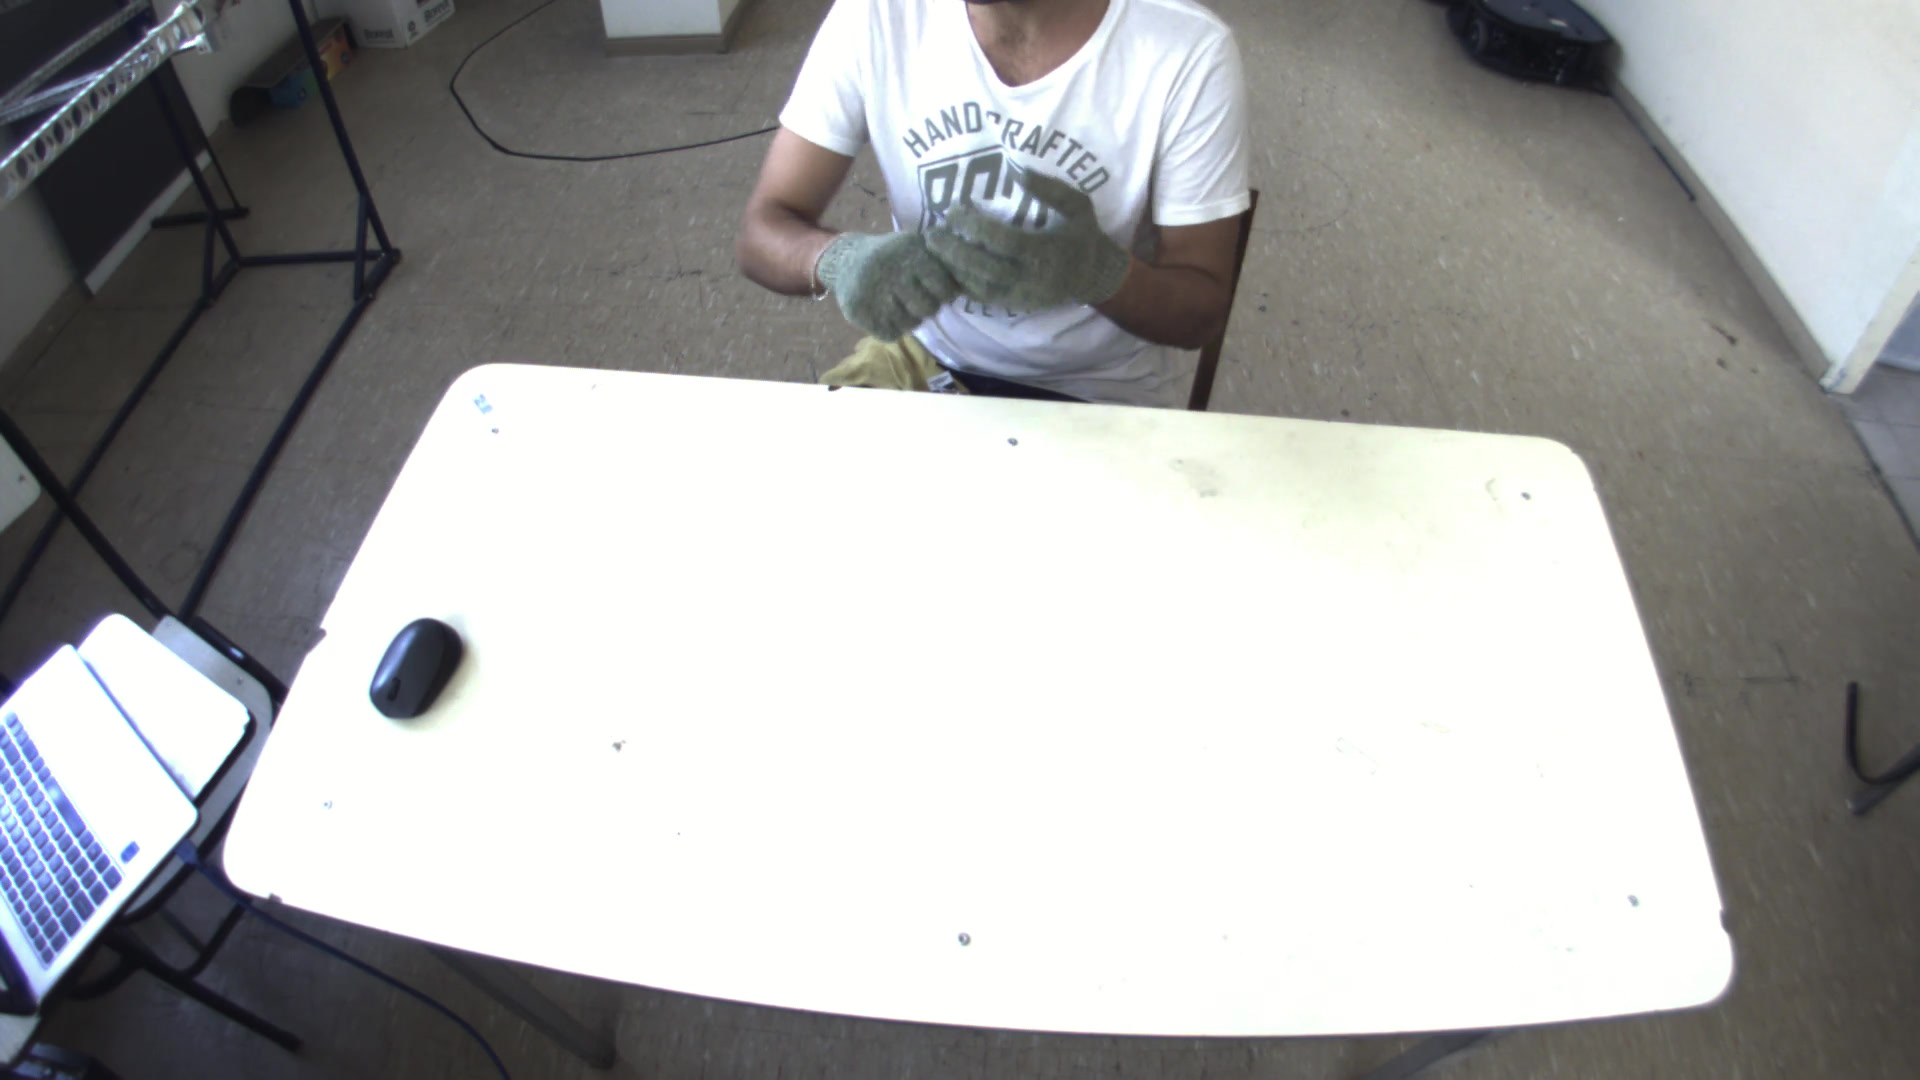hand: (926, 164, 1138, 328), (828, 225, 949, 355)
